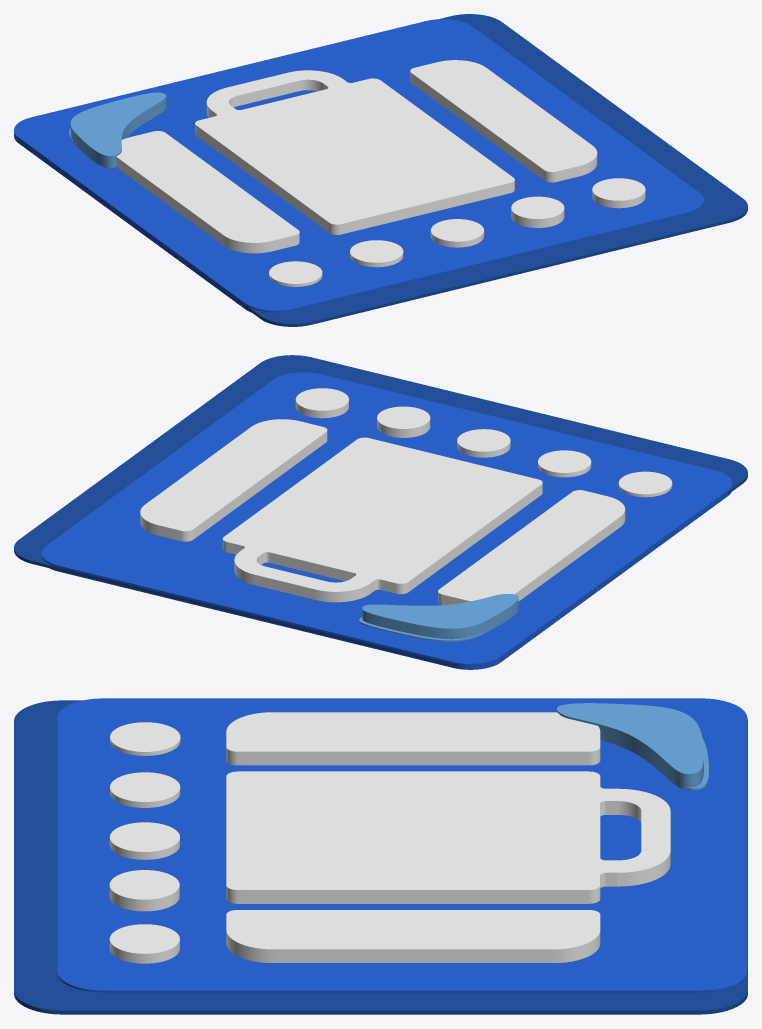
File: emoji_u1f6c4.glb
3 renders of one model, top to bottom at view 1: azimuth 30°, elevation 25°; view 2: azimuth 150°, elevation 25°; view 3: azimuth 270°, elevation 25°, orthographic. The views are drawn at different scales.
Parts seen in each view (by area): view 1: emoji_u1f6c4; view 2: emoji_u1f6c4; view 3: emoji_u1f6c4.
Part boxes in pixels (x1,y1,x2,y2): emoji_u1f6c4: (14,14,747,326); emoji_u1f6c4: (14,355,747,669); emoji_u1f6c4: (14,698,747,1014).
Bounding box in the file's own units: 0.0339 × 0.002 × 0.0339.
